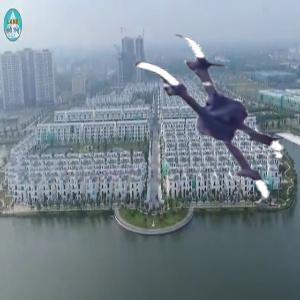drone: (112, 34, 297, 219)
